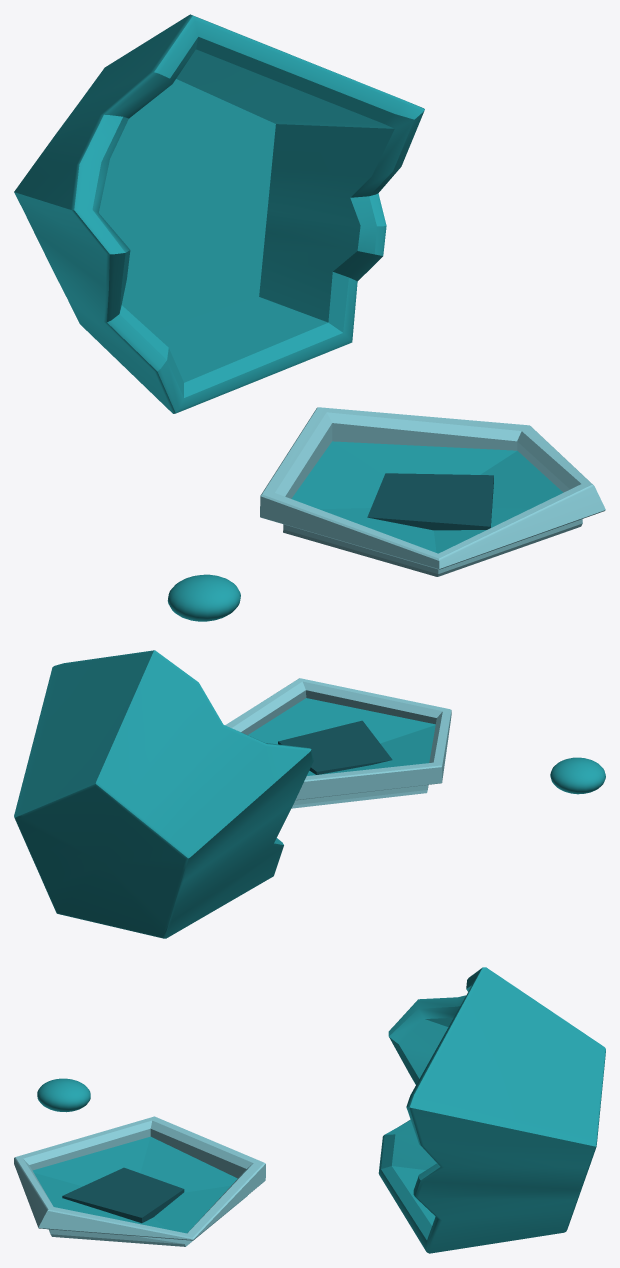
File: Broken Relic Fallen Down.fbx
The picture shows the model from 3 angles, top to bottom: view 1: azimuth 30°, elevation 25°; view 2: azimuth 150°, elevation 25°; view 3: azimuth 270°, elevation 25°; orthographic projection. The views are drawn at different scales.
Parts seen in each view (by area): view 1: polySurface49; view 2: polySurface49; view 3: polySurface49.
Part boxes in pixels (left/top/right/bottom): polySurface49: left=14, top=14, right=605, bottom=621; polySurface49: left=14, top=650, right=605, bottom=938; polySurface49: left=14, top=967, right=605, bottom=1253.
Bounding box in the file's own units: 0.7201 × 0.4656 × 1.03.
